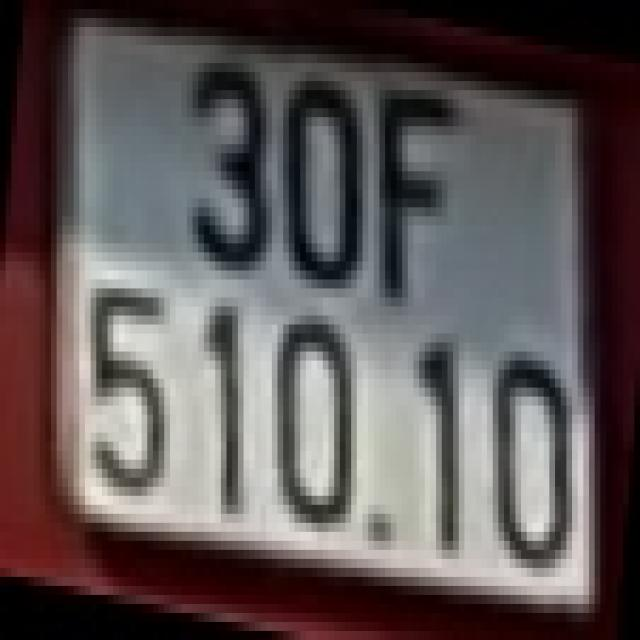0: (272, 315, 357, 532), (283, 72, 363, 289), (493, 351, 572, 568)
1: (198, 297, 249, 514), (414, 342, 464, 559)
3: (187, 54, 272, 271)
5: (85, 279, 170, 496)
F: (374, 81, 459, 298)
